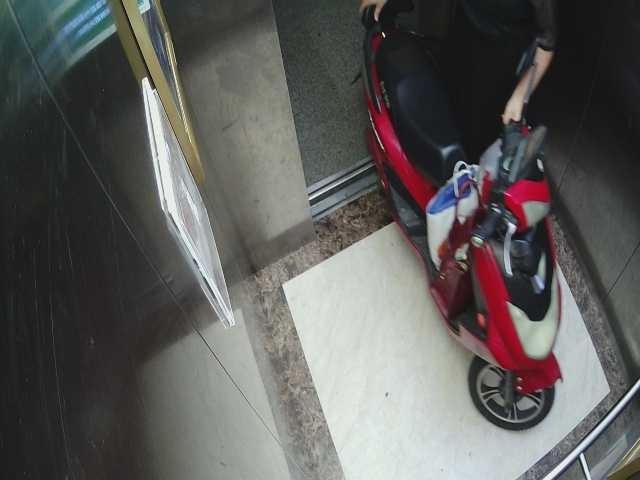emotor: (352, 12, 567, 424)
